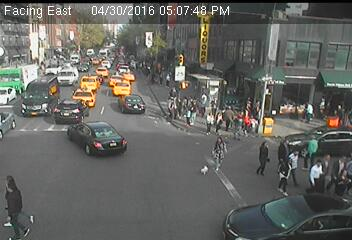neg: (9, 47, 44, 95), (11, 105, 42, 146), (114, 177, 141, 213), (200, 24, 221, 51), (102, 14, 122, 41), (254, 28, 273, 54), (111, 72, 130, 98), (53, 164, 71, 188), (298, 36, 316, 59), (43, 21, 61, 44), (236, 190, 253, 212), (191, 186, 207, 207), (148, 149, 163, 168), (156, 19, 170, 39), (97, 181, 111, 200), (56, 108, 69, 125), (97, 139, 108, 154), (85, 64, 95, 78), (89, 112, 96, 122)
pos: (280, 145, 310, 185), (270, 156, 299, 195), (250, 136, 279, 174), (205, 134, 232, 171), (326, 151, 351, 190), (304, 156, 331, 191), (299, 131, 326, 166), (272, 135, 298, 169), (158, 95, 183, 129), (317, 149, 341, 181), (163, 83, 186, 113), (298, 99, 317, 124), (200, 110, 219, 134), (220, 105, 237, 128), (213, 110, 228, 129), (160, 71, 173, 88)
